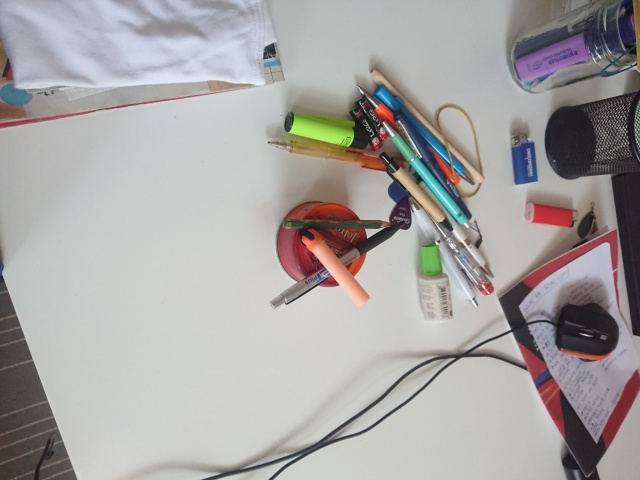Gavrilovic Pork Liver Pate 100g: (273, 198, 369, 288)
